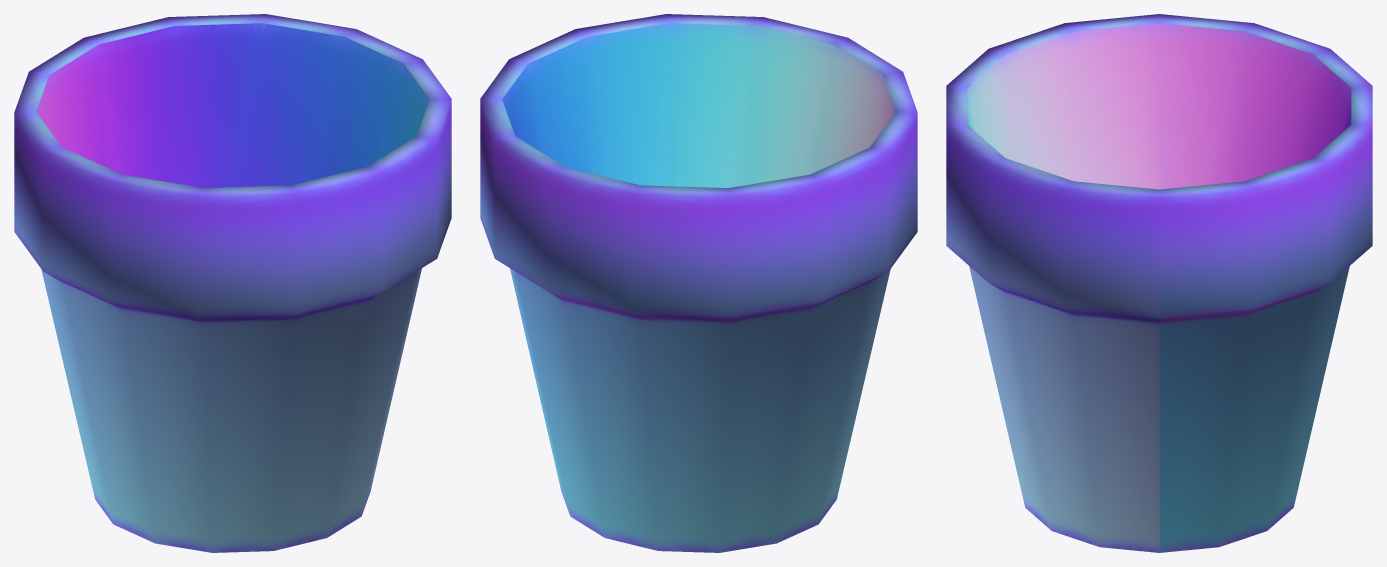
The model's file is Mighty_FlowerPot.fbx.
The picture shows the model from 3 angles, left to right: view 1: azimuth 30°, elevation 25°; view 2: azimuth 150°, elevation 25°; view 3: azimuth 270°, elevation 25°; orthographic projection.
Visible parts, largest first — view 1: Mighty_FlowerPot; view 2: Mighty_FlowerPot; view 3: Mighty_FlowerPot.
Part boxes in pixels (bbox=[...]): Mighty_FlowerPot: bbox=[14, 14, 451, 552]; Mighty_FlowerPot: bbox=[480, 14, 917, 552]; Mighty_FlowerPot: bbox=[946, 14, 1372, 552].
Size of the model in its own units: 0.5 by 0.49 by 0.4875.
1 material, 1 textured.
